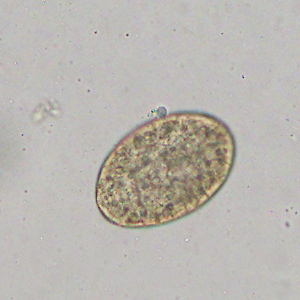Fasciola_hepatica_egg: (94, 110, 236, 230)
